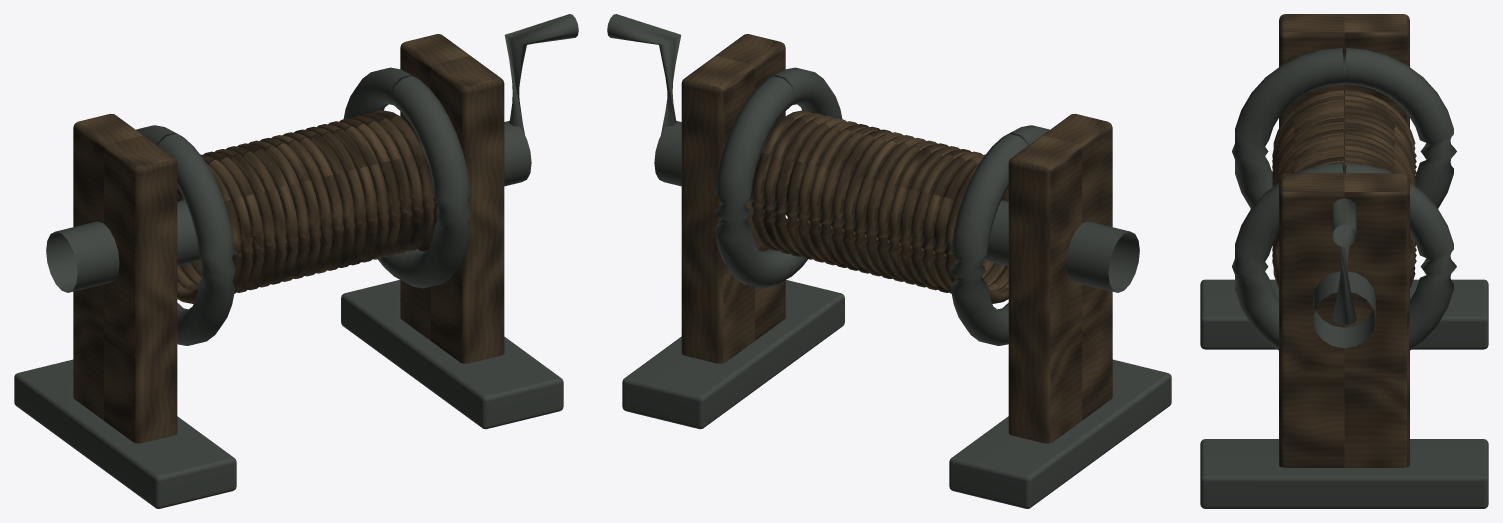
The model's file is C17_hand_winch.gltf.
3 views of the same model, side by side, from view 1: azimuth 30°, elevation 25°; view 2: azimuth 150°, elevation 25°; view 3: azimuth 270°, elevation 25° (orthographic).
Parts seen in each view (by area): view 1: Winch frame, Winch frame.001, Winch base, Winch base.001, Drum end ring.001, Drum end ring, Iron axle, Crank handle, Wound hemp.003, Wound hemp.018, Wound hemp.011, Wound hemp.004 (+14 smaller); view 2: Winch frame, Winch frame.001, Winch base, Winch base.001, Drum end ring.001, Drum end ring, Iron axle, Crank handle, Wound hemp.003, Wound hemp.011, Wound hemp.018, Wound hemp.019 (+14 smaller); view 3: Winch frame.001, Winch base.001, Drum end ring, Drum end ring.001, Winch base, Winch frame, Iron axle, Crank handle, Wound hemp, Wound hemp.002, Wound hemp.004, Wound hemp.005 (+10 smaller).
Boxes of the visible parts, <box> form: Winch frame: <box>73,113,177,443</box>; Winch frame.001: <box>400,34,504,363</box>; Winch base: <box>14,359,236,508</box>; Winch base.001: <box>341,280,563,429</box>; Drum end ring.001: <box>343,67,471,288</box>; Drum end ring: <box>136,125,235,345</box>; Iron axle: <box>46,121,531,292</box>; Crank handle: <box>504,14,578,134</box>; Wound hemp.003: <box>177,154,253,293</box>; Wound hemp.018: <box>362,113,423,254</box>; Wound hemp.011: <box>282,132,343,273</box>; Wound hemp.004: <box>203,151,264,292</box>; Winch frame: <box>1008,113,1112,443</box>; Winch frame.001: <box>681,34,785,363</box>; Winch base: <box>949,359,1171,508</box>; Winch base.001: <box>622,280,844,429</box>; Drum end ring.001: <box>714,67,842,288</box>; Drum end ring: <box>950,125,1049,345</box>; Iron axle: <box>654,121,1139,292</box>; Crank handle: <box>607,14,681,134</box>; Wound hemp.003: <box>932,154,1008,293</box>; Wound hemp.011: <box>842,132,903,273</box>; Wound hemp.018: <box>762,113,823,254</box>; Wound hemp.019: <box>751,110,812,251</box>; Winch frame.001: <box>1279,173,1409,467</box>; Winch base.001: <box>1200,439,1488,508</box>; Drum end ring: <box>1232,48,1456,208</box>; Drum end ring.001: <box>1232,163,1456,350</box>; Winch base: <box>1200,279,1488,349</box>; Winch frame: <box>1279,14,1409,127</box>; Iron axle: <box>1313,271,1375,348</box>; Crank handle: <box>1332,198,1356,324</box>; Wound hemp: <box>1272,90,1416,158</box>; Wound hemp.002: <box>1272,101,1416,169</box>; Wound hemp.004: <box>1272,112,1416,180</box>; Wound hemp.005: <box>1272,118,1416,185</box>.
Bounding box in the file's own units: 2.25 × 1.37 × 1.1.
Materials: 2 (1 with a texture image).
